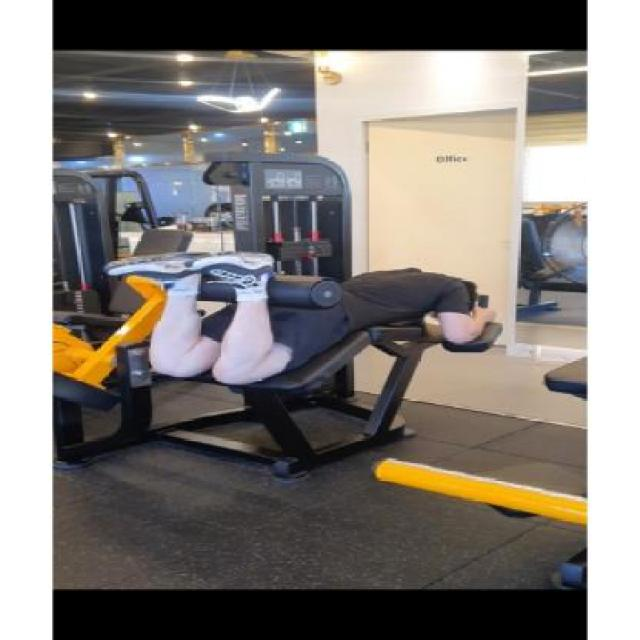reg curl machine: (103, 149, 514, 483)
